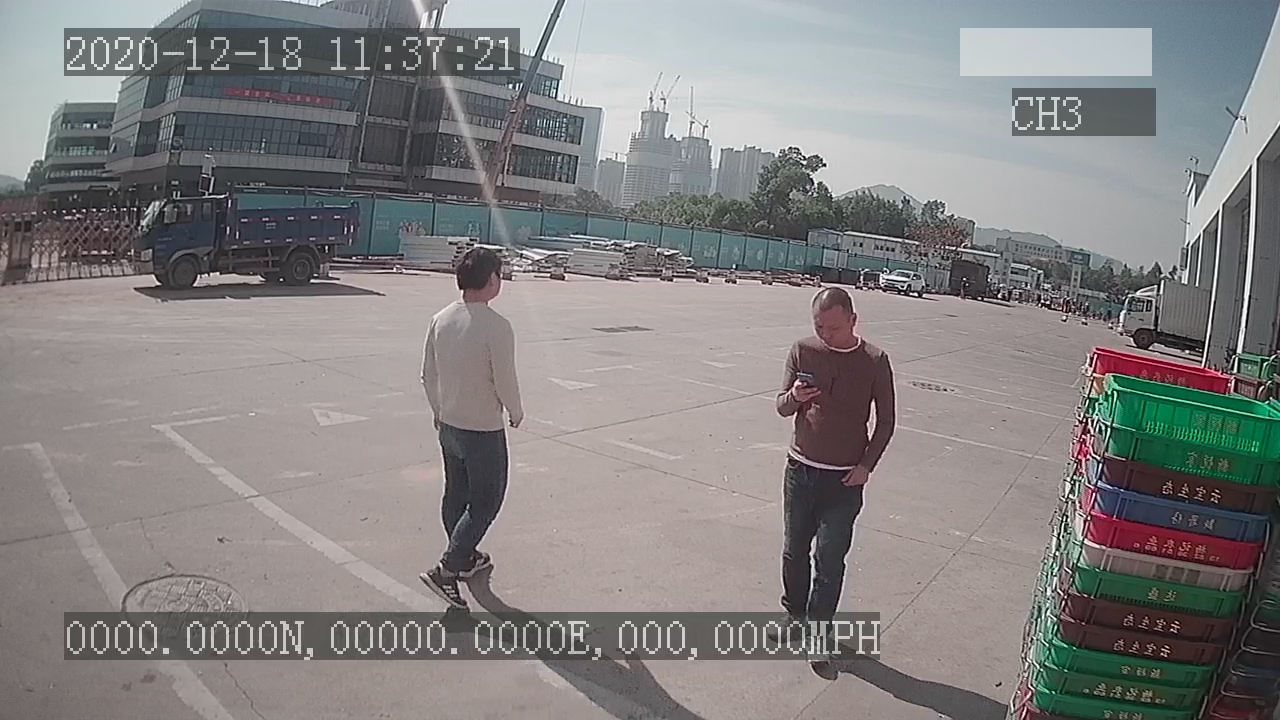person: (405, 245, 536, 607)
